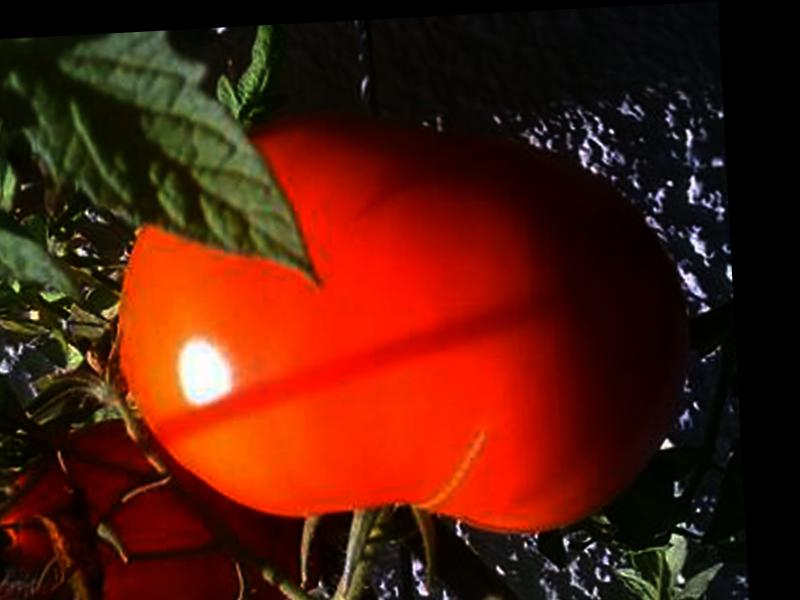Tomato: (105, 97, 697, 555)
